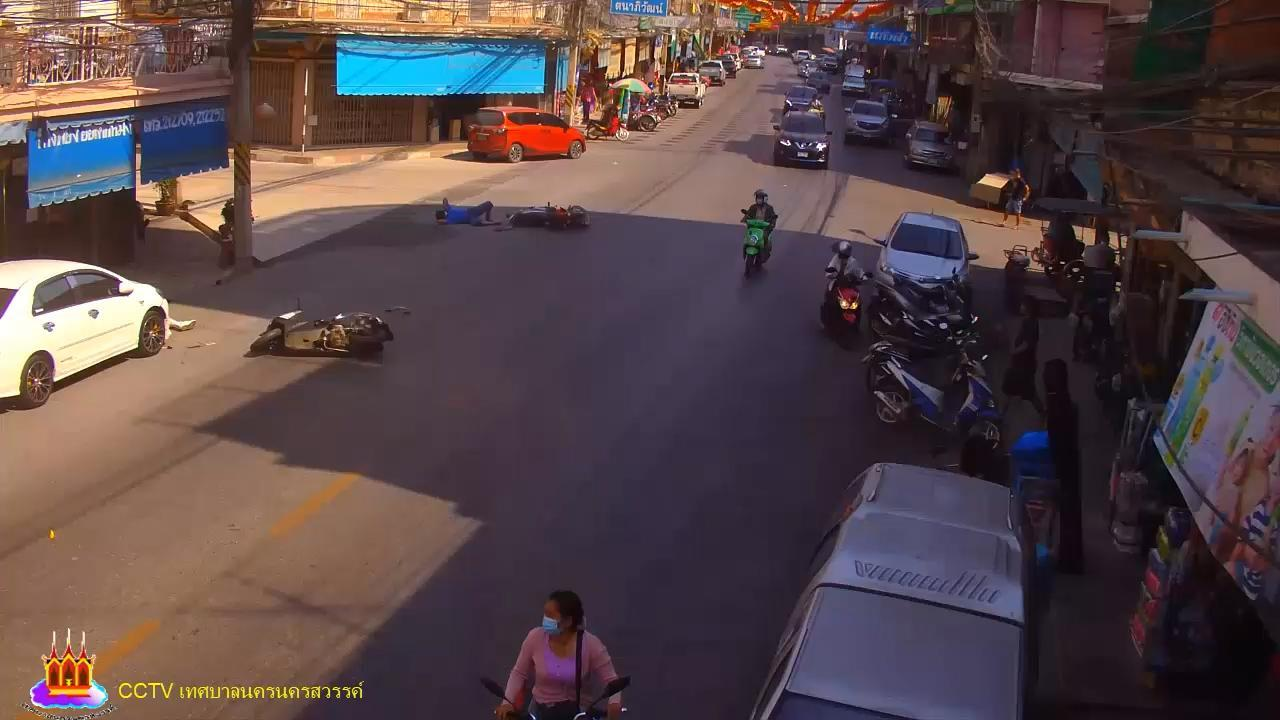accident: (436, 197, 506, 231)
